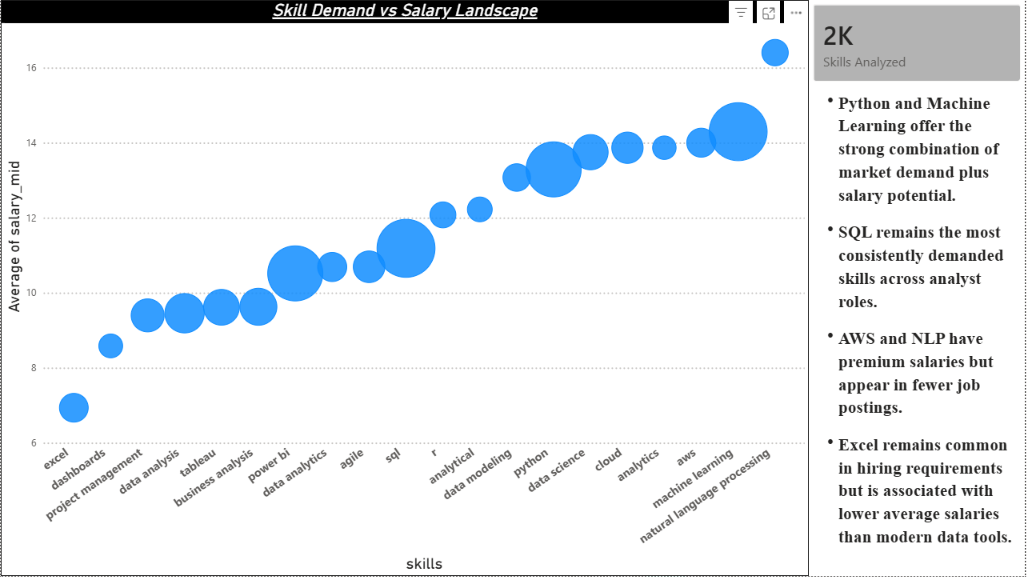

What the dashboard file says about the page in this screenshot:
{"tool":"powerbi","page":{"name":"Skill Demand vs Salary Landscape","canvas":[1280,720],"ordinal":2},"visuals":[{"type":"scatterChart","title":"Skill Demand vs Salary Landscape","fields":{"X":["skills_exploded.skills"],"Y":["Avg(skills_exploded.salary_mid)"],"Size":["CountNonNull(skills_exploded.skills)"]},"box":[0,0,1010,720.4],"z":0},{"type":"textbox","box":[1010,107,270.3,613.4],"z":1000},{"type":"cardVisual","fields":{"Data":["skills_exploded.Skills Analyzed"]},"box":[1010,0,270.3,107],"z":2000}]}

Visuals, with their boxes on the page's 1280x720 design canvas (x1, y1, x2, y2). These are canvas units, not pixel positions in the 1027x577 screenshot, which may show the page scaled, cropped or inside an application window:
"Skill Demand vs Salary Landscape" scatterChart: pyautogui.locateOnScreen(0, 0, 1010, 720)
textbox: pyautogui.locateOnScreen(1010, 107, 1280, 720)
cardVisual - skills_exploded.Skills Analyzed: pyautogui.locateOnScreen(1010, 0, 1280, 107)
